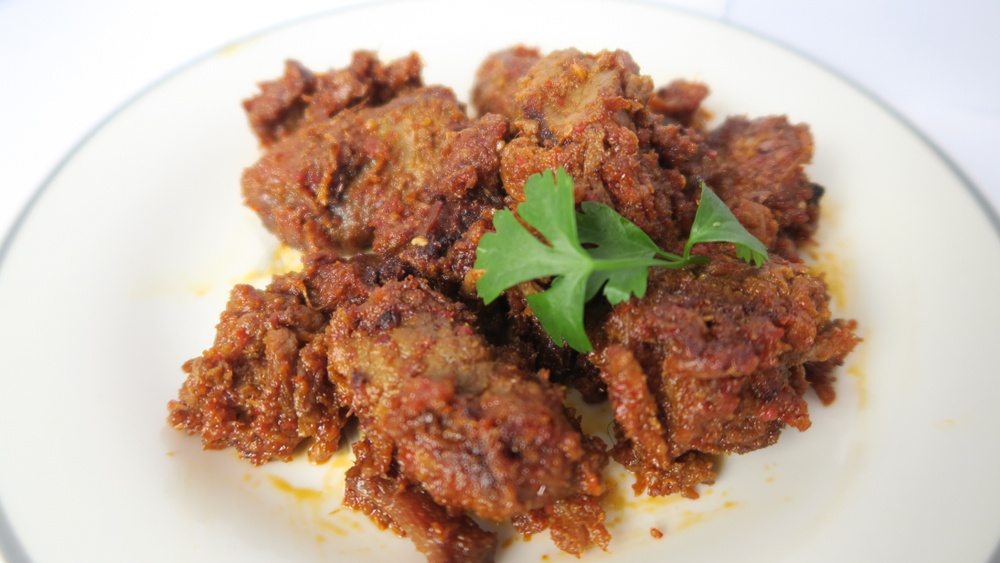Rendang: (166, 42, 860, 563)
